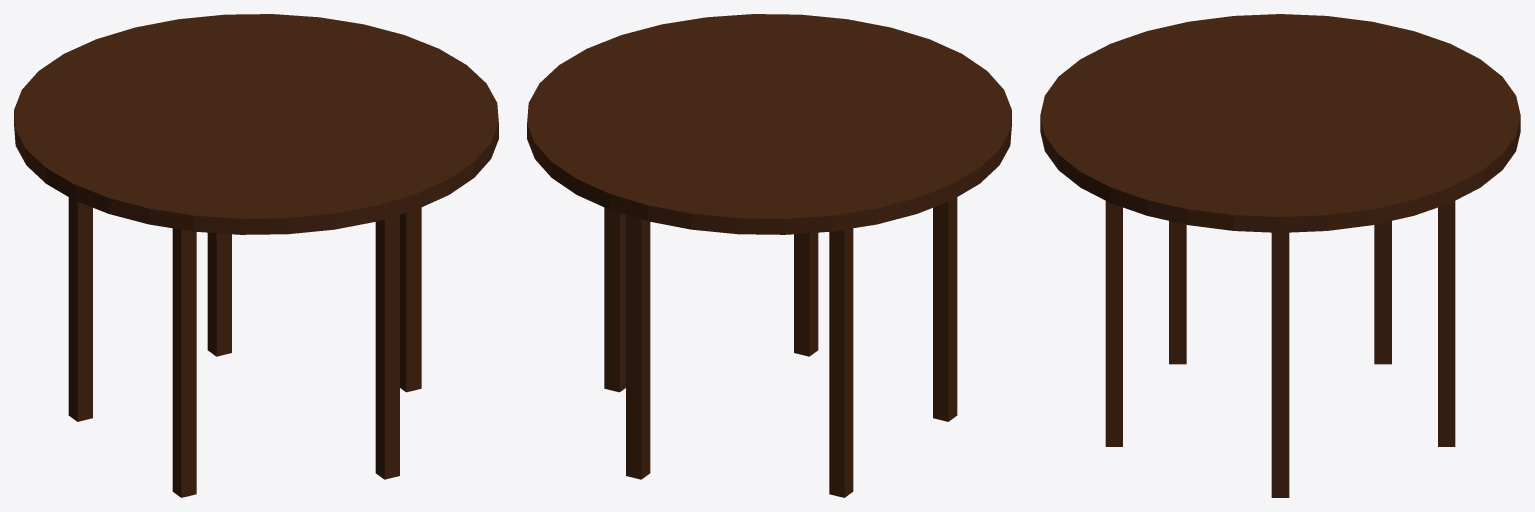
Rendered from furniture.obj.
3 renders of one model, left to right at view 1: azimuth 30°, elevation 25°; view 2: azimuth 150°, elevation 25°; view 3: azimuth 270°, elevation 25°, orthographic.
Visible parts, largest first — view 1: table_top, leg_3, leg_2, leg_4, leg_1, leg_5; view 2: table_top, leg_4, leg_5, leg_3, leg_1, leg_2; view 3: table_top, leg_1, leg_2, leg_5, leg_3, leg_4.
Boxes of the visible parts, x1,y1,x2,y2 form: table_top: (14,14,498,234); leg_3: (172,228,196,497); leg_2: (375,215,399,479); leg_4: (68,197,92,421); leg_1: (400,207,421,392); leg_5: (207,232,231,356); table_top: (527,14,1011,234); leg_4: (829,228,853,497); leg_5: (626,215,650,479); leg_3: (933,197,957,421); leg_1: (604,207,625,392); leg_2: (794,232,818,356); table_top: (1040,14,1520,232); leg_1: (1271,232,1289,497); leg_2: (1105,201,1122,446); leg_5: (1438,201,1455,446); leg_3: (1169,221,1186,364); leg_4: (1374,221,1391,364).
Size of the model in its own units: 110 by 77 by 110.
